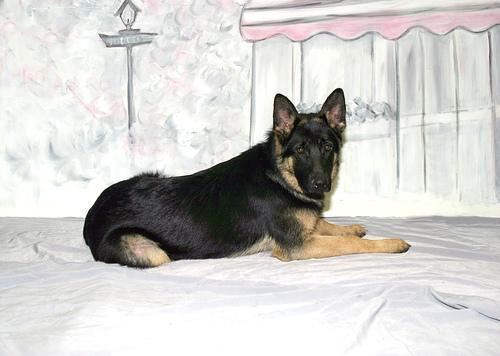German_shepherd: (83, 88, 412, 270)
